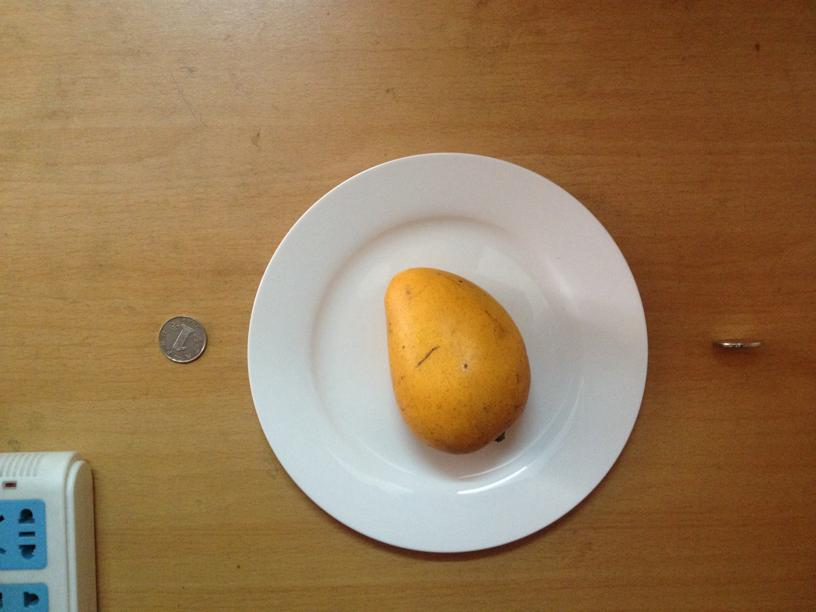coin: (155, 313, 208, 364)
mango: (384, 267, 531, 452)
